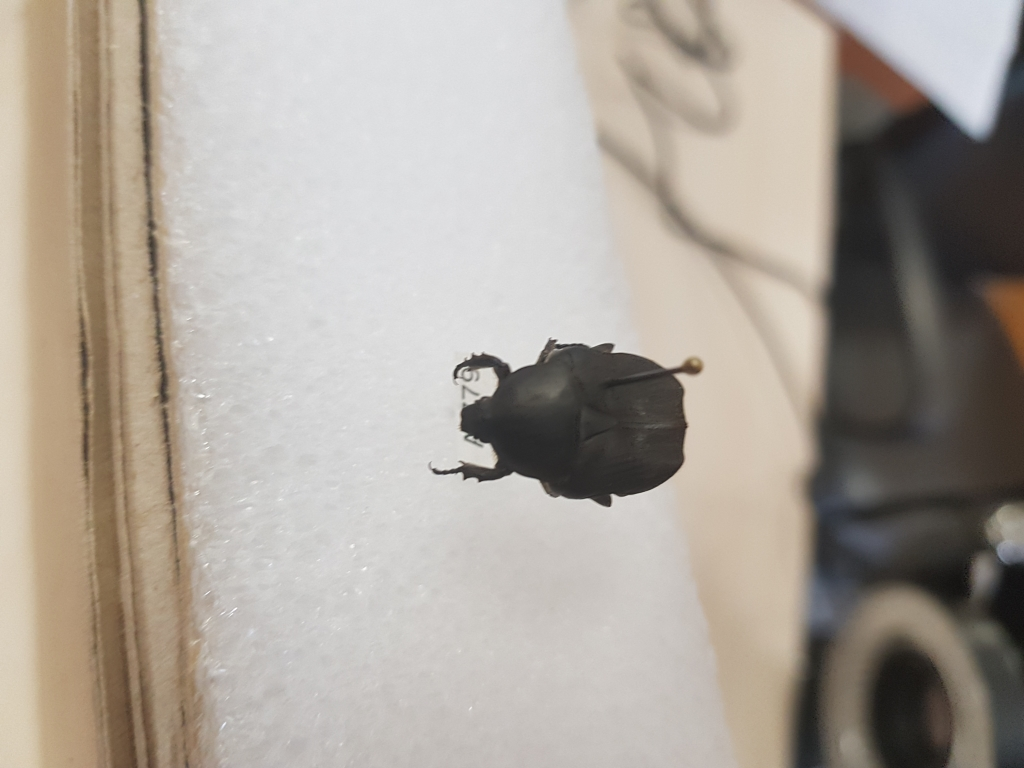Protaetia_asiatica: (427, 334, 706, 514)
